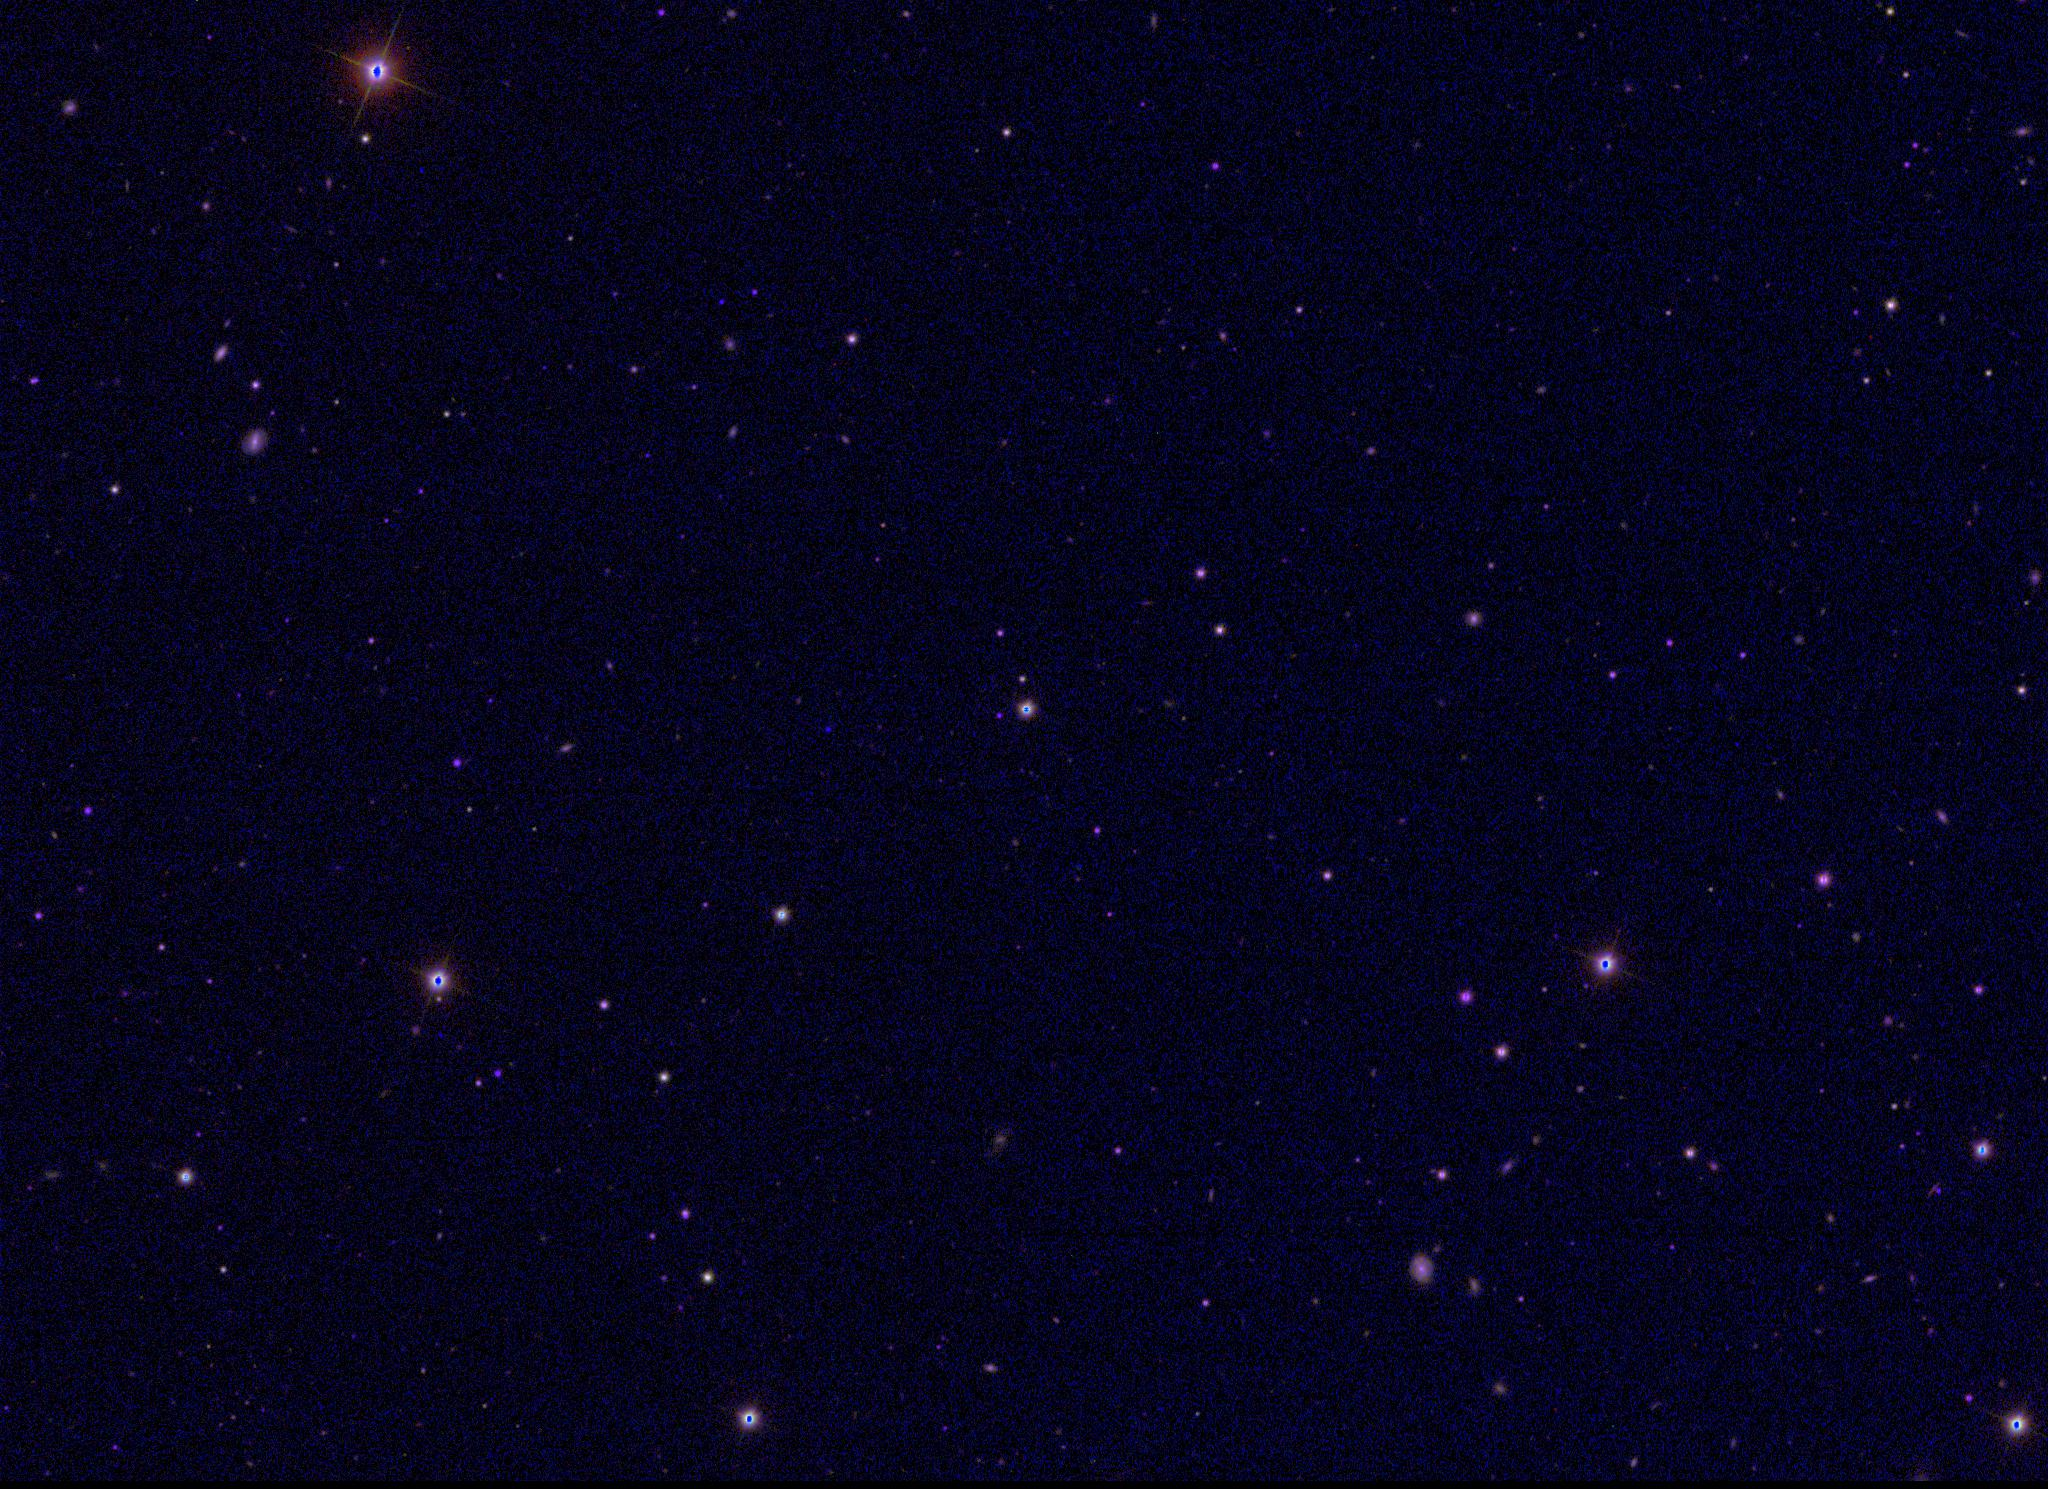L: (820, 722, 835, 737)
